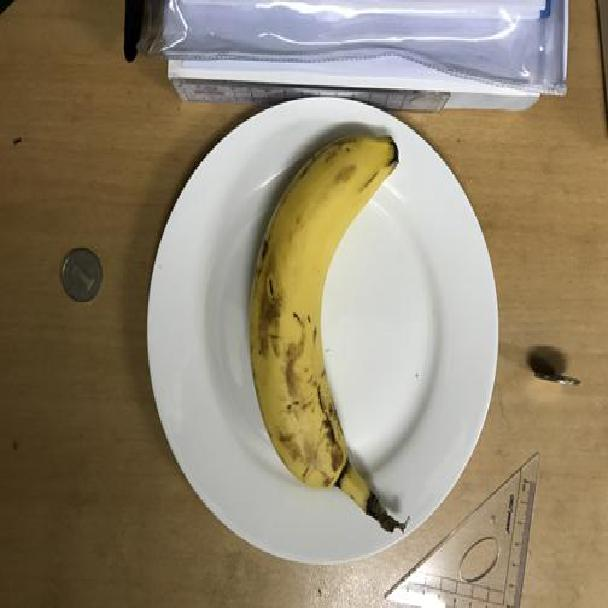banana: (249, 133, 407, 539)
